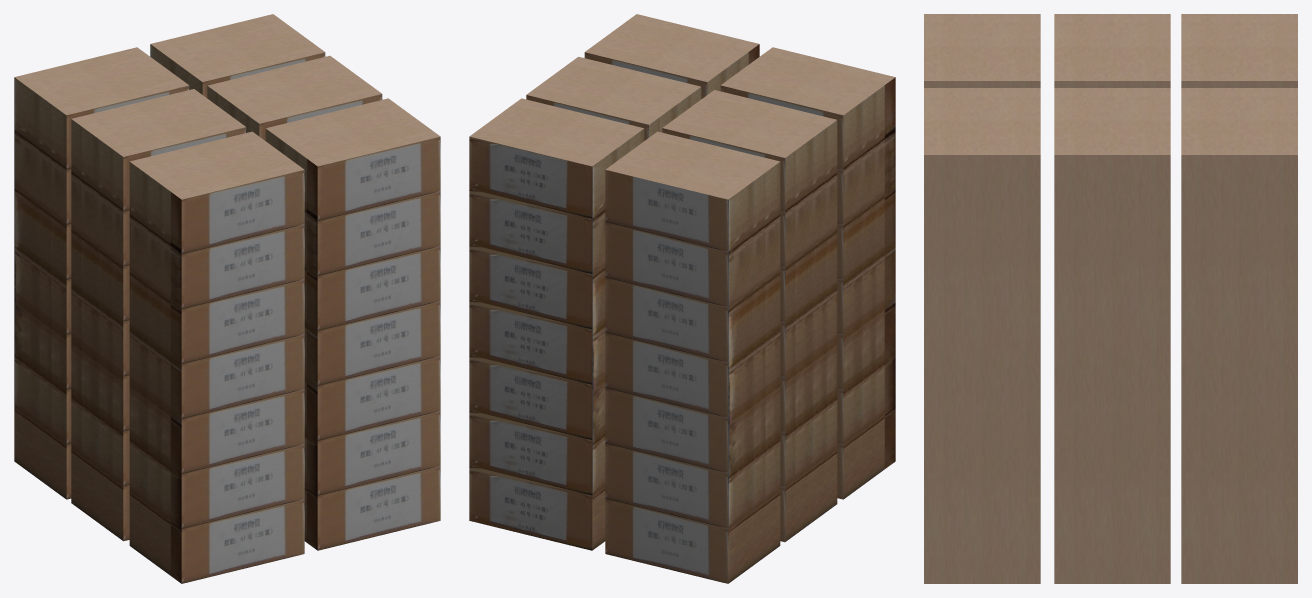
File: jiaoxie.FBX
3 views of the same model, side by side, from view 1: azimuth 30°, elevation 25°; view 2: azimuth 150°, elevation 25°; view 3: azimuth 270°, elevation 25° (orthographic). The views are drawn at different scales.
Visible parts, largest first — view 1: 对象105; view 2: 对象105; view 3: 对象105.
Part boxes in pixels (<box>): 对象105: <box>14,14,440,583</box>; 对象105: <box>469,14,895,583</box>; 对象105: <box>924,14,1297,583</box>.
Size of the model in its own units: 0.8269 by 0.926 by 1.17.
